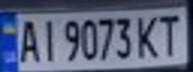0: (78, 16, 100, 62)
3: (112, 14, 136, 61)
7: (96, 15, 115, 61)
9: (60, 16, 81, 62)
A: (15, 16, 42, 64)
I: (36, 16, 60, 63)
K: (136, 11, 163, 60)
T: (154, 11, 187, 57)
